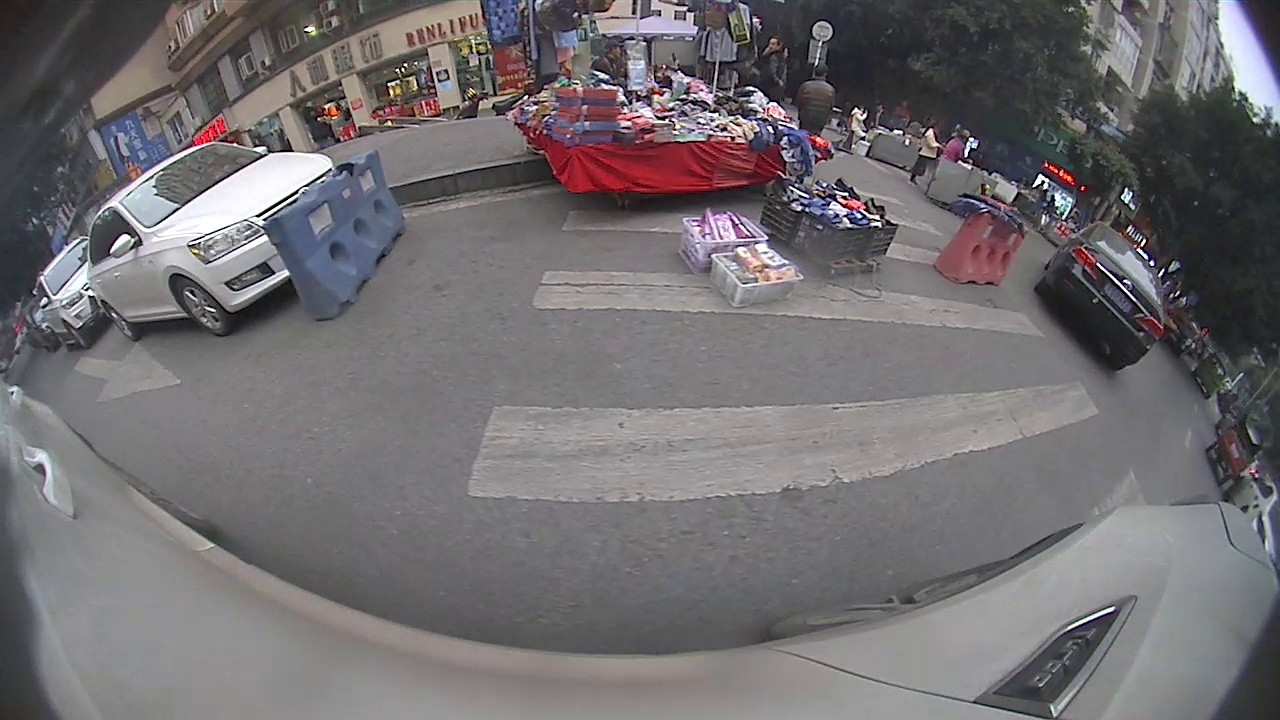car: (85, 140, 335, 338), (1033, 219, 1166, 372), (30, 234, 108, 351)
front: (168, 278, 233, 339), (63, 320, 90, 353)
person: (802, 61, 832, 135)
rear: (103, 300, 137, 345)
